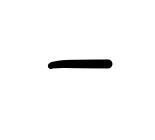minus: (44, 55, 113, 75)
